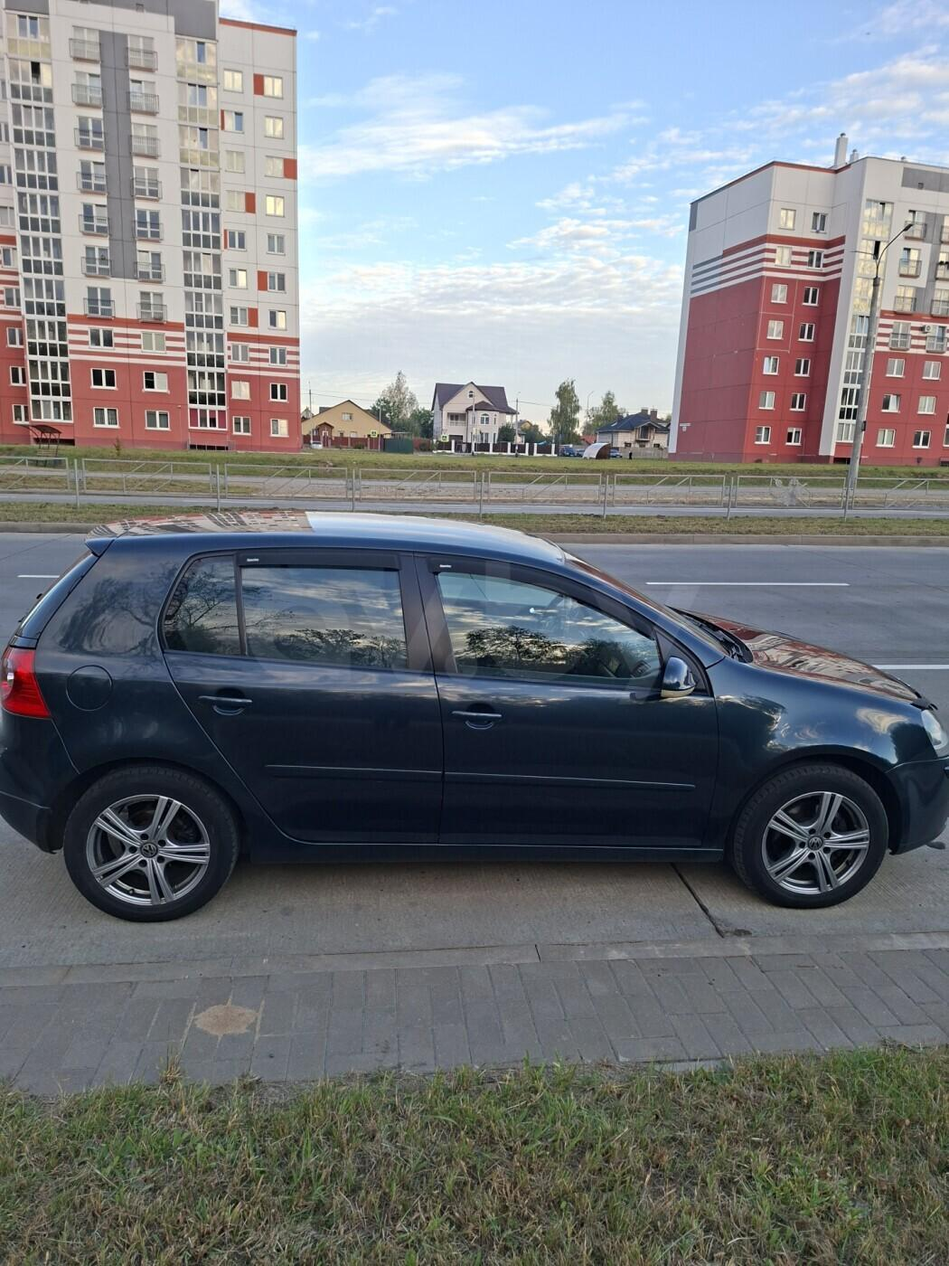Golf_2003-2009: (0, 511, 949, 937)
